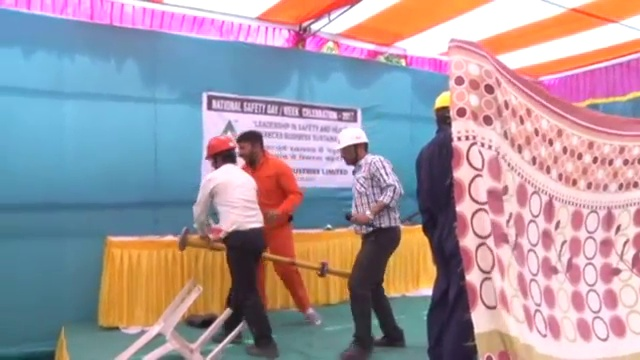helmet: (335, 127, 370, 150), (204, 134, 237, 158), (434, 89, 456, 111)
helmet_off: (237, 130, 266, 166)
helmet_on: (334, 125, 370, 168), (203, 133, 237, 171), (431, 88, 457, 137)
person: (191, 133, 279, 358), (414, 89, 479, 358), (332, 124, 406, 357), (236, 130, 323, 326)
